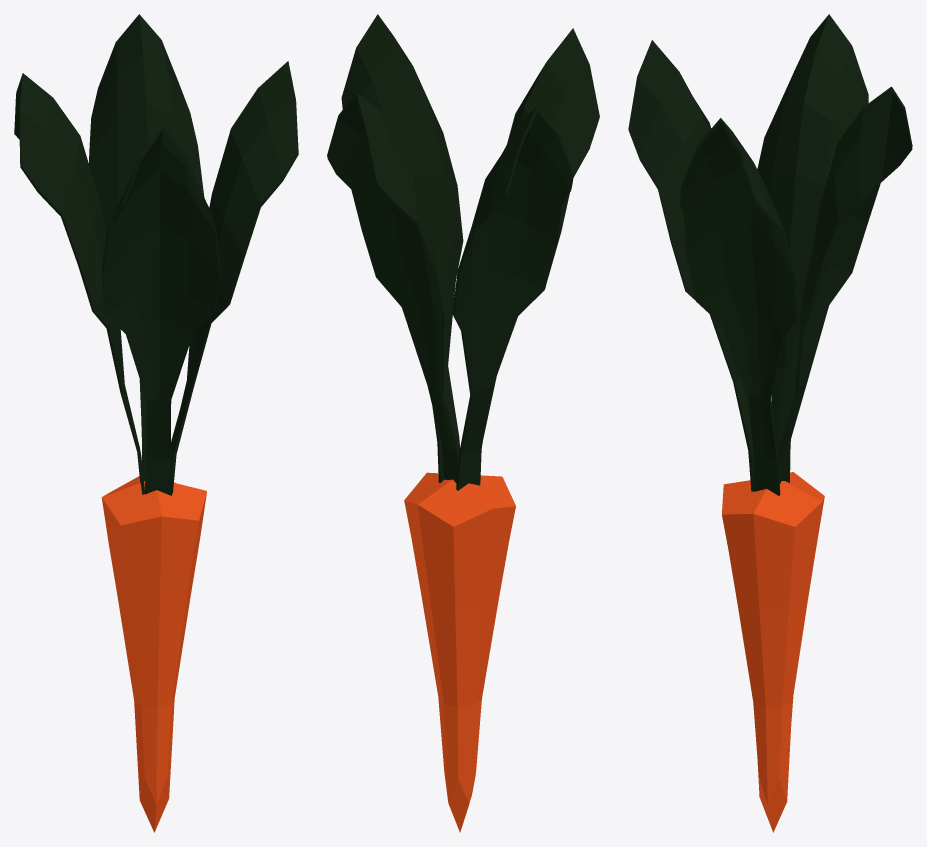
Rendered from Carrot.glb.
3 views of the same model, side by side, from view 1: azimuth 30°, elevation 25°; view 2: azimuth 150°, elevation 25°; view 3: azimuth 270°, elevation 25° (orthographic).
Visible parts, largest first — view 1: Carrot; view 2: Carrot; view 3: Carrot.
Boxes of the visible parts, x1,y1,x2,y2 form: Carrot: [14, 14, 298, 832]; Carrot: [327, 14, 599, 832]; Carrot: [628, 14, 912, 832].
Size of the model in its own units: 94.67 by 278 by 93.16.
